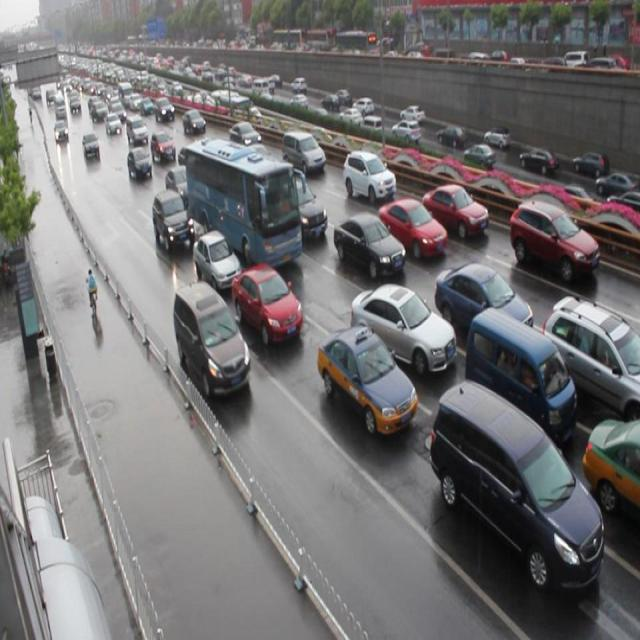car: (540, 294, 640, 422), (317, 326, 416, 435), (350, 282, 456, 378), (434, 261, 532, 340), (509, 198, 598, 282), (580, 415, 640, 522), (231, 262, 302, 346), (332, 210, 404, 277), (377, 196, 446, 260), (420, 182, 488, 240), (275, 177, 329, 240), (193, 228, 241, 290), (342, 149, 396, 202), (152, 188, 193, 249), (164, 163, 193, 204), (228, 120, 261, 151)
truck: (432, 380, 602, 590), (464, 306, 572, 443), (172, 280, 252, 398), (281, 130, 325, 175)
van: (186, 136, 302, 268)
